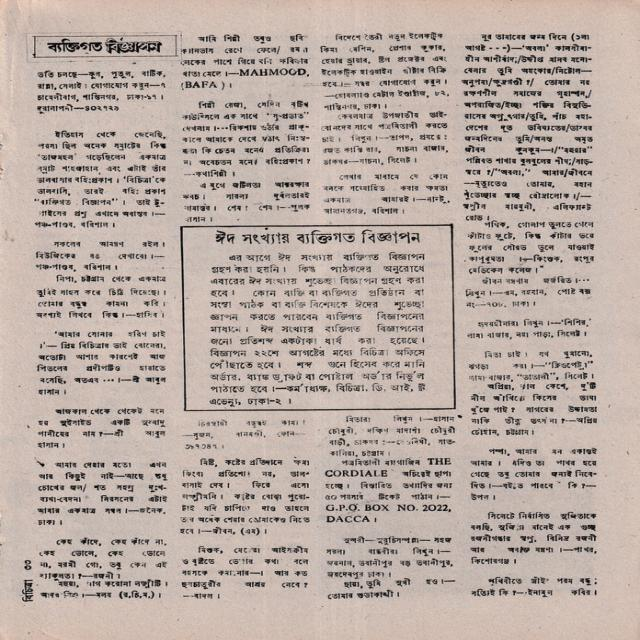page number: (23, 559, 33, 571)
paragraph: (208, 250, 427, 408), (460, 32, 594, 222), (322, 414, 459, 525), (33, 130, 168, 229), (178, 456, 311, 537), (319, 31, 450, 112), (180, 99, 311, 179), (35, 328, 168, 397), (36, 461, 169, 527), (179, 33, 310, 93), (319, 110, 450, 167), (465, 219, 596, 275), (469, 381, 599, 437), (181, 545, 309, 601), (469, 511, 599, 566), (469, 447, 599, 502), (36, 69, 167, 115), (35, 274, 168, 319), (38, 537, 168, 582), (325, 535, 454, 580), (36, 406, 167, 450), (321, 172, 452, 216), (181, 180, 311, 224), (34, 240, 168, 273), (467, 349, 596, 383), (464, 275, 592, 309), (181, 417, 308, 451), (326, 577, 457, 601), (470, 575, 598, 599), (465, 317, 593, 341), (40, 578, 169, 600)
text: (21, 578, 35, 603)
title: (213, 228, 422, 246), (45, 37, 163, 54)
